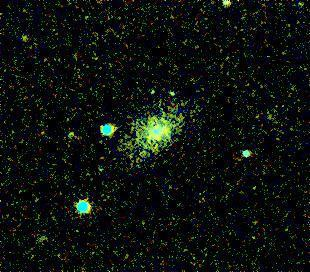star: (10, 23, 40, 53)
